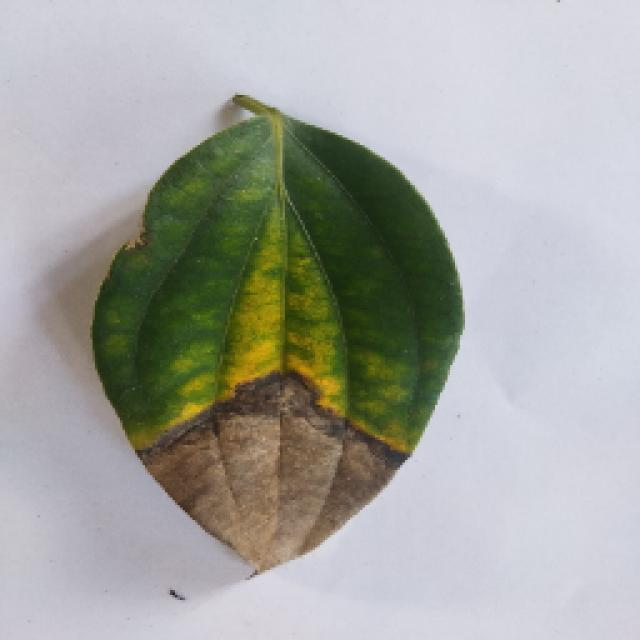footrot: (65, 100, 483, 602)
